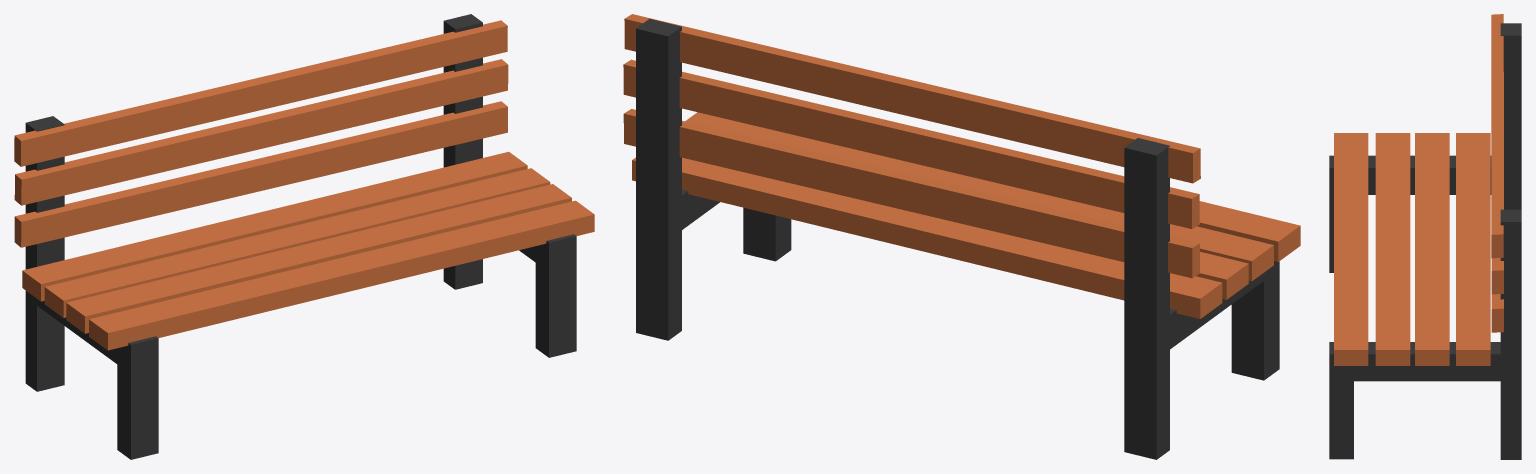
File: Bench_2.fbx
3 renders of one model, left to right at view 1: azimuth 30°, elevation 25°; view 2: azimuth 150°, elevation 25°; view 3: azimuth 270°, elevation 25°, orthographic. The views are drawn at different scales.
Visible parts, largest first — view 1: Bench_2; view 2: Bench_2; view 3: Bench_2.
Boxes of the visible parts, x1=… form: Bench_2: x1=14, y1=14, x2=594, y2=459; Bench_2: x1=623, y1=14, x2=1300, y2=459; Bench_2: x1=1329, y1=14, x2=1521, y2=459.
Bounding box in the file's own units: 237 × 121 × 88.85.
